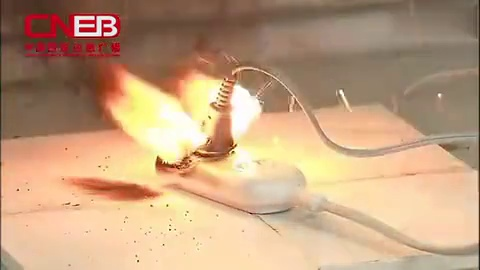fire: (101, 60, 208, 165), (177, 63, 265, 156)
